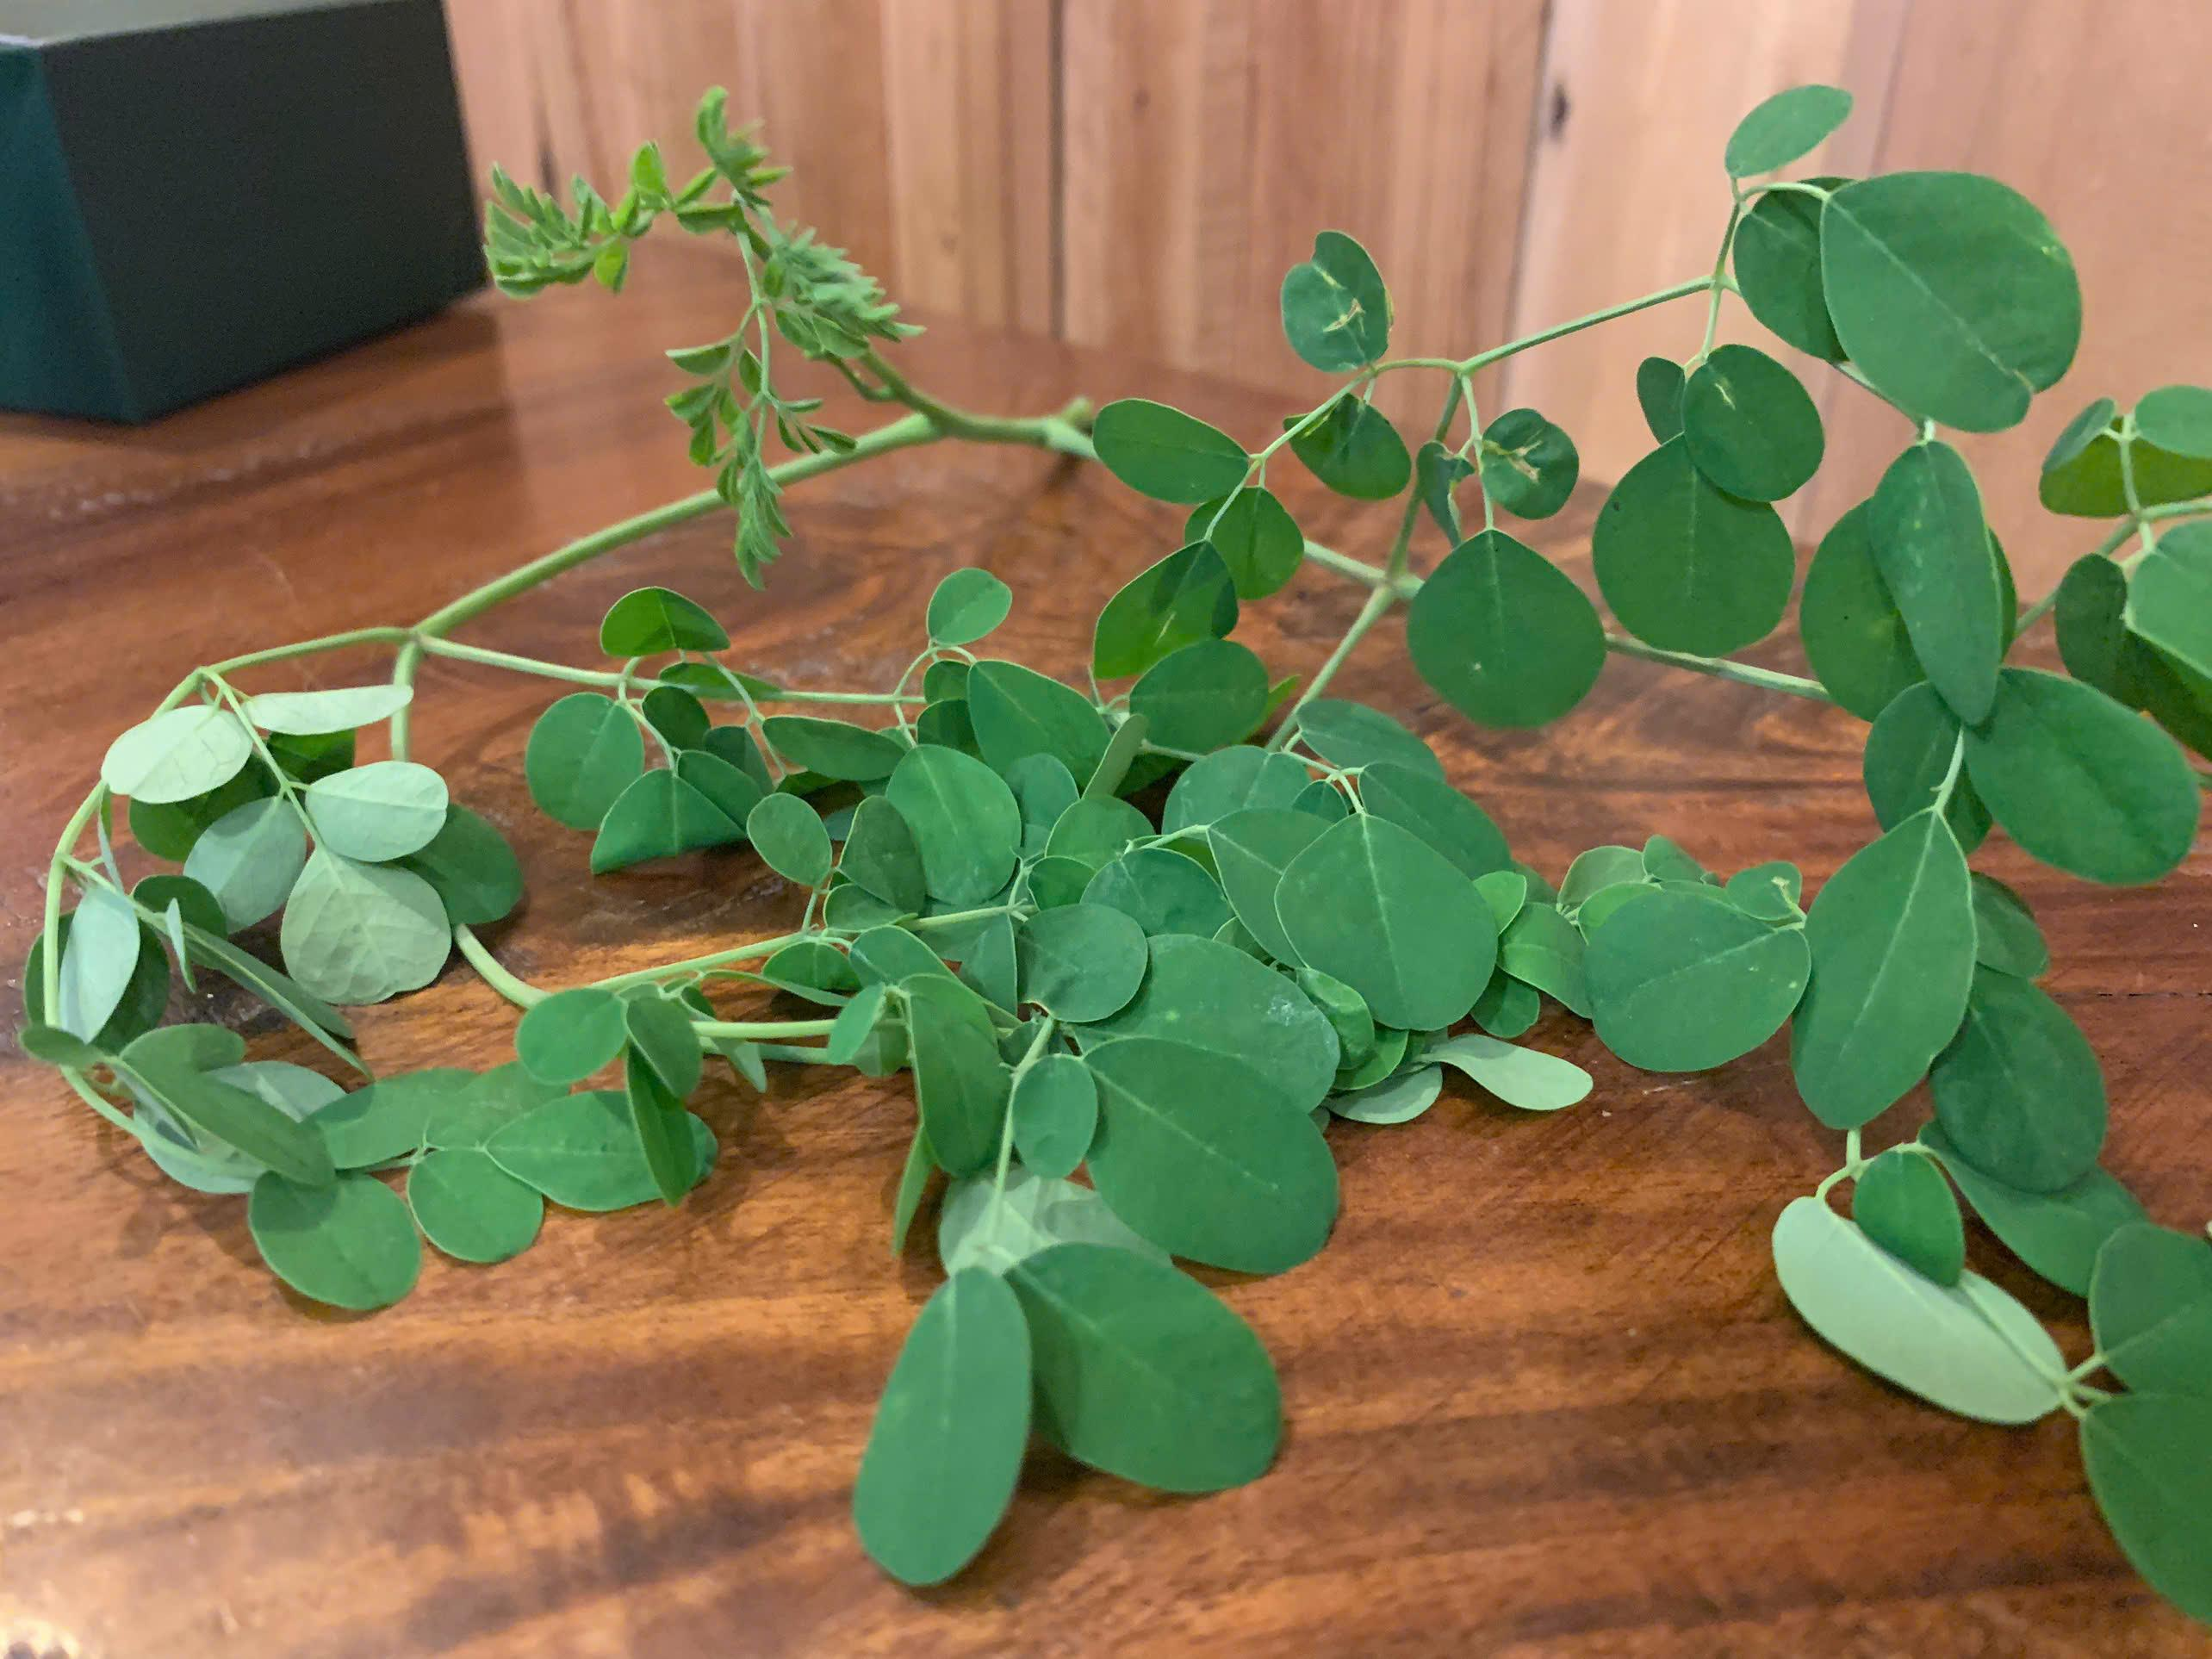Huu co: (52, 144, 2212, 1299)
